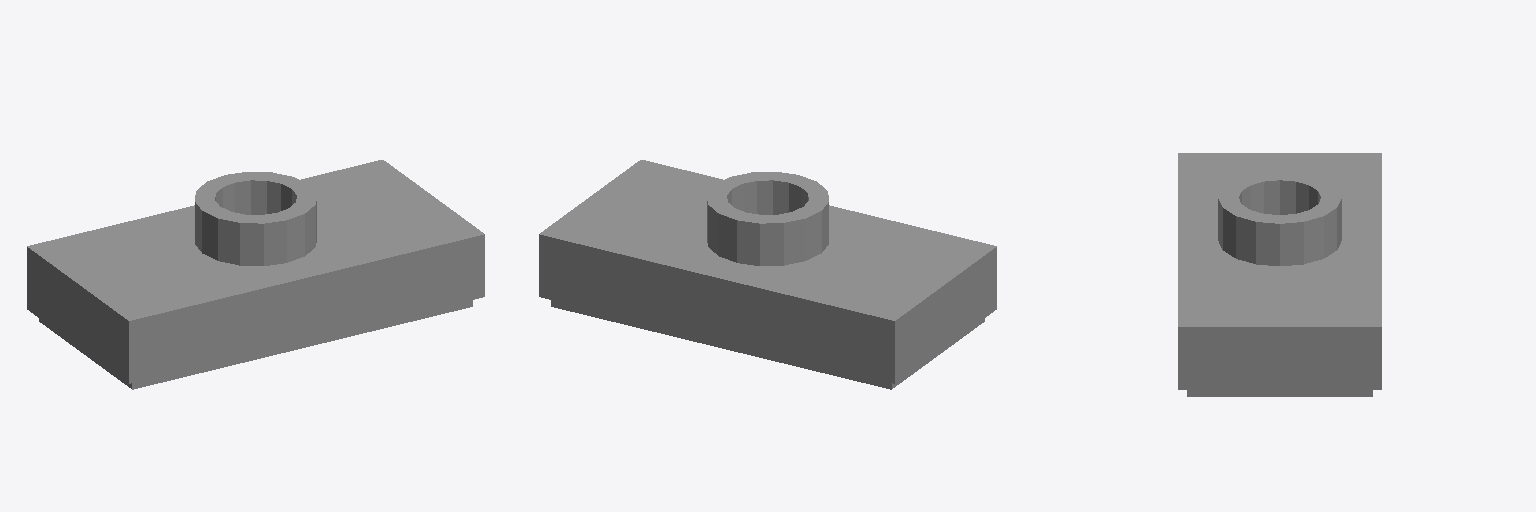
File: 2by1Plate_Stud.obj
3 renders of one model, left to right at view 1: azimuth 30°, elevation 25°; view 2: azimuth 150°, elevation 25°; view 3: azimuth 270°, elevation 25°, orthographic.
Visible parts, largest first — view 1: Part.002; view 2: Part.002; view 3: Part.002.
Part boxes in pixels (bbox=[...]): Part.002: bbox=[27, 160, 484, 389]; Part.002: bbox=[539, 160, 996, 389]; Part.002: bbox=[1178, 153, 1381, 396].
Size of the model in its own units: 15.92 by 4.98 by 7.92.